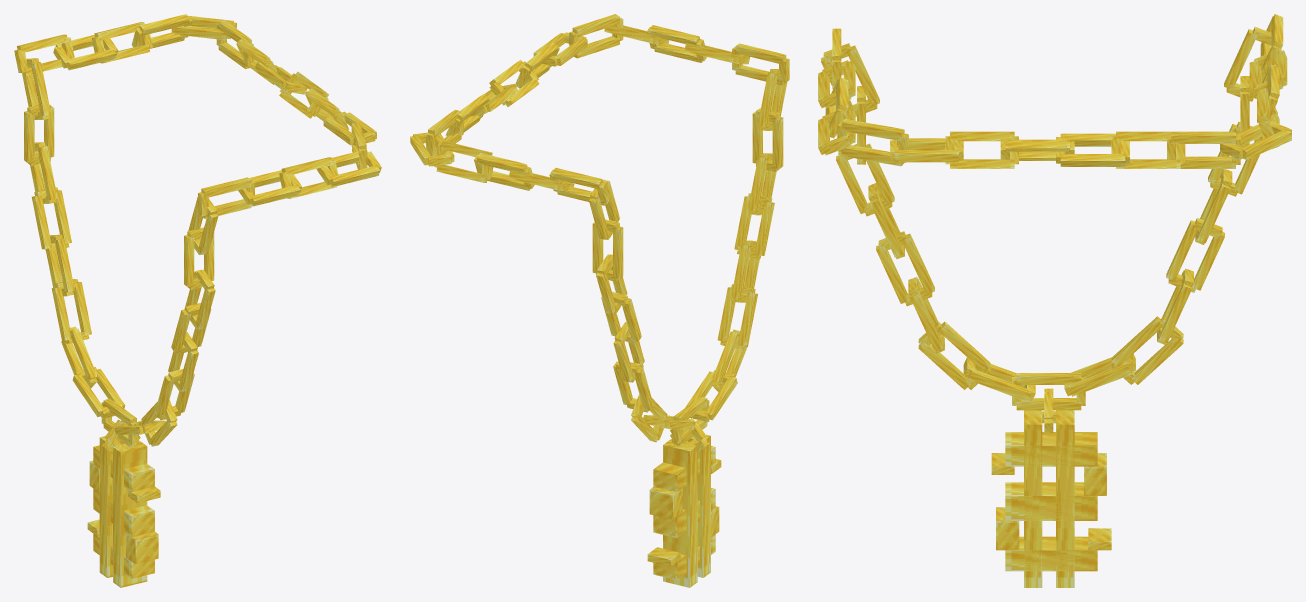
Rendered from minecraft_thug_life_gold_chain.glb.
The picture shows the model from 3 angles, left to right: view 1: azimuth 30°, elevation 25°; view 2: azimuth 150°, elevation 25°; view 3: azimuth 270°, elevation 25°; orthographic projection. The views are drawn at different scales.
Visible parts, largest first — view 1: cube_178, cube_175, cube_177, cube_181, cube_176, cube_174, cube_1, cube_40, cube_44, cube_60, cube_4, cube_8 (+11 smaller); view 2: cube_175, cube_178, cube_181, cube_172, cube_177, cube_174, cube_37, cube_28, cube_53, cube_49, cube_65, cube_33 (+9 smaller); view 3: cube_175, cube_178, cube_177, cube_181, cube_174, cube_176, cube_106, cube_114, cube_93, cube_102, cube_12, cube_20 (+25 smaller).
Part boxes in pixels (<box>): cube_178: <box>113,440,147,587</box>; cube_175: <box>99,436,122,577</box>; cube_177: <box>93,488,154,536</box>; cube_181: <box>93,445,154,491</box>; cube_176: <box>126,531,158,564</box>; cube_174: <box>93,534,154,578</box>; cube_1: <box>54,238,74,292</box>; cube_40: <box>31,195,51,249</box>; cube_44: <box>37,146,57,199</box>; cube_60: <box>31,62,51,115</box>; cube_4: <box>51,287,70,340</box>; cube_8: <box>70,328,97,379</box>; cube_175: <box>663,439,697,587</box>; cube_178: <box>682,429,710,577</box>; cube_181: <box>653,446,715,492</box>; cube_172: <box>649,487,682,519</box>; cube_177: <box>653,488,715,537</box>; cube_174: <box>653,534,715,579</box>; cube_37: <box>754,201,774,255</box>; cube_28: <box>737,292,757,346</box>; cube_53: <box>772,116,783,168</box>; cube_49: <box>748,157,766,211</box>; cube_65: <box>757,72,777,127</box>; cube_33: <box>731,244,750,298</box>; cube_175: <box>1056,410,1074,587</box>; cube_178: <box>1024,410,1042,587</box>; cube_177: <box>1005,482,1097,520</box>; cube_181: <box>1005,432,1097,466</box>; cube_174: <box>1005,536,1097,571</box>; cube_176: <box>996,507,1019,550</box>; cube_106: <box>1060,154,1125,166</box>; cube_114: <box>1171,131,1235,143</box>; cube_93: <box>894,150,958,162</box>; cube_102: <box>1005,139,1069,151</box>; cube_12: <box>1068,363,1131,396</box>; cube_20: <box>968,368,1031,401</box>.
Size of the model in its own units: 0.3998 by 0.8374 by 0.6416.
1 material, 1 textured.
